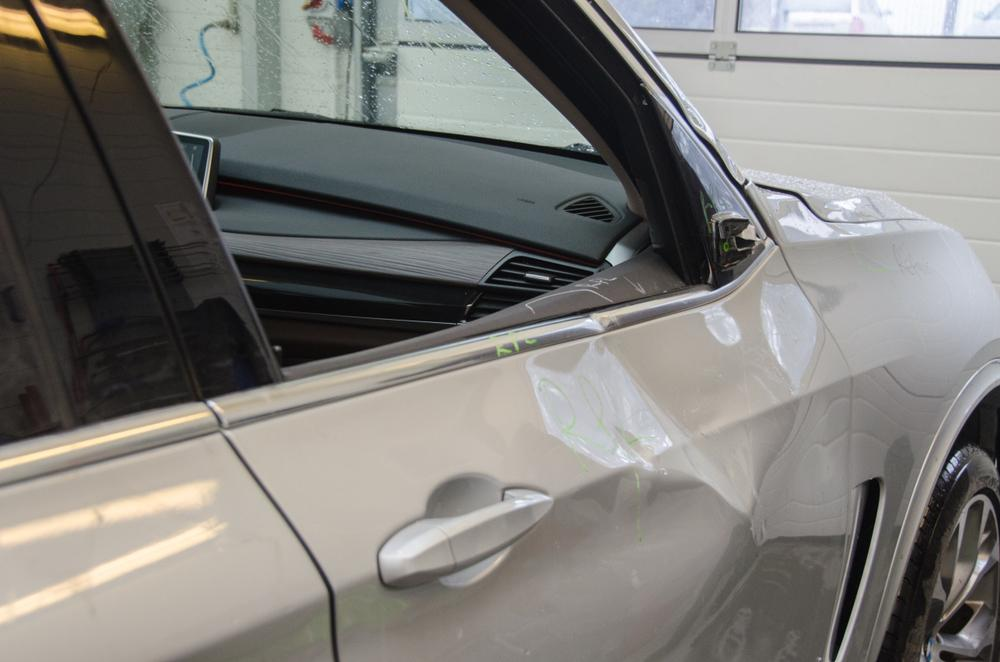dent: (525, 276, 817, 519)
